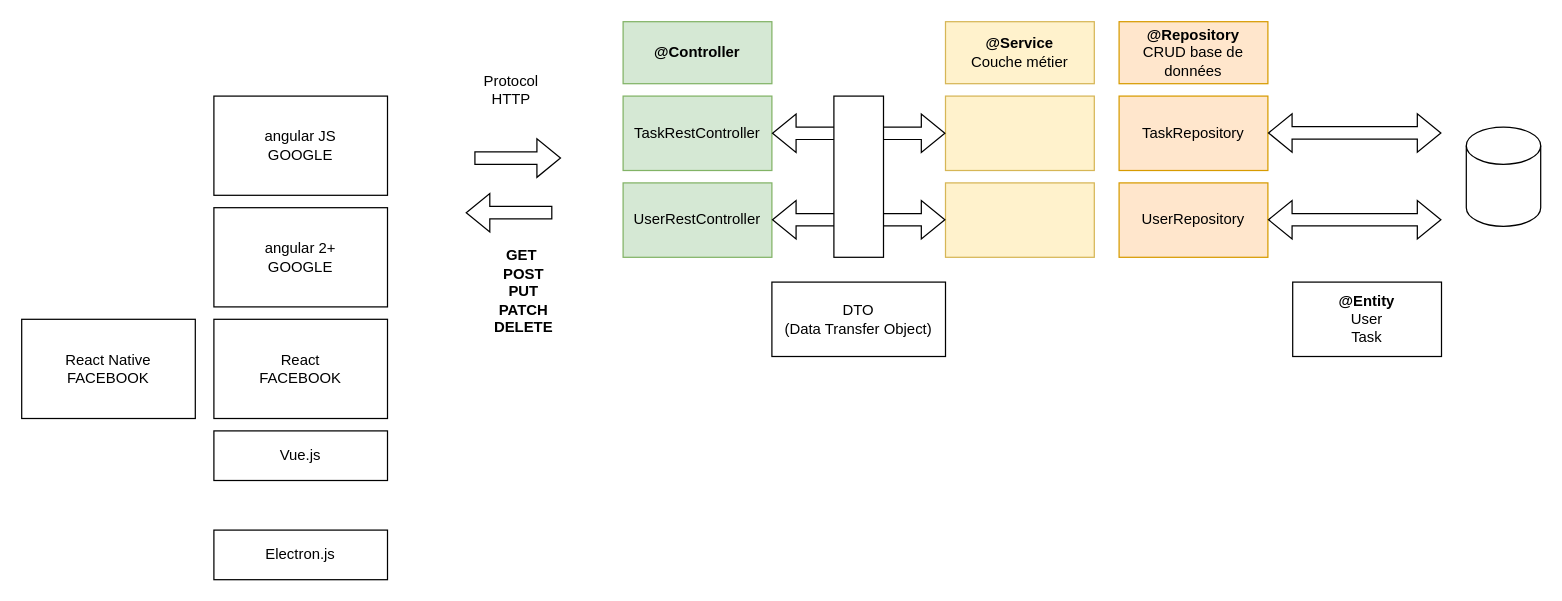
This 1562x601 diagram has some shape labels left out. Here are the shapes that lost their labels. From the top down, the centre of each, then its label:
the point at 1019,132: TaskService
the point at 858,176: m a p p e r
the point at 1019,219: UserService
